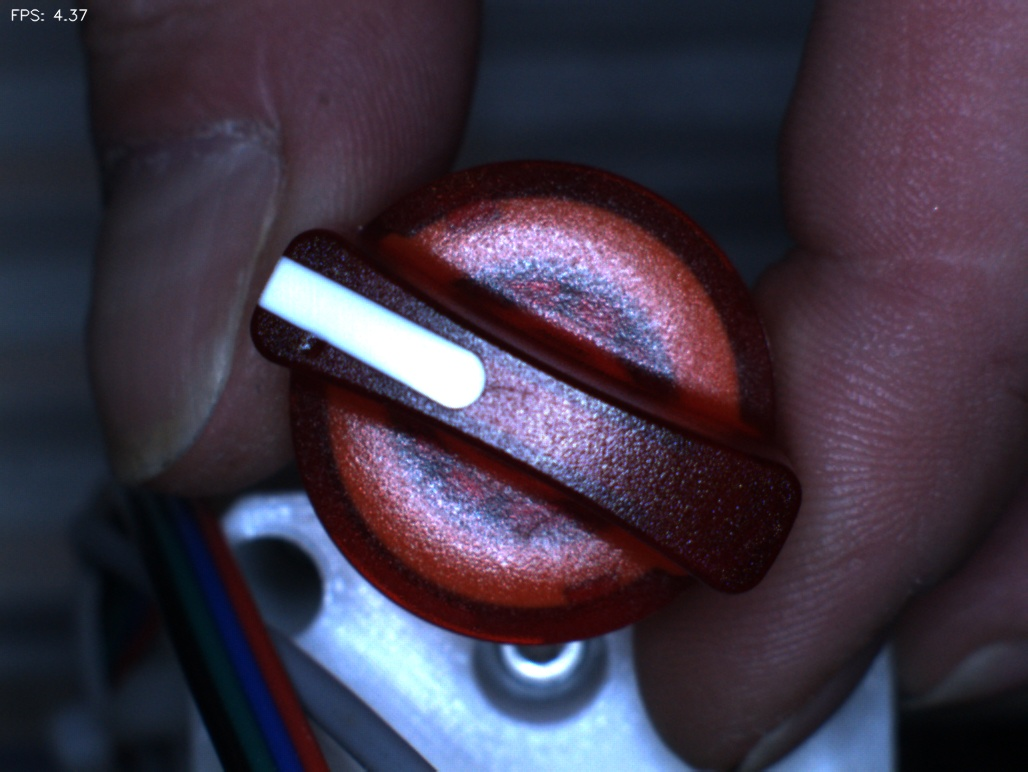Choc: (276, 312, 352, 388)
